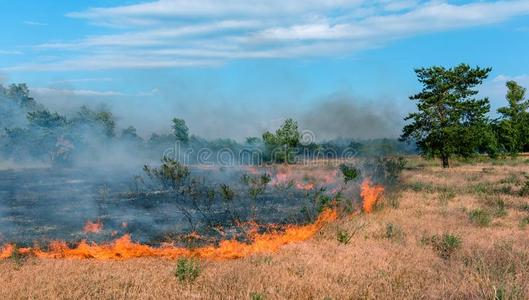fire: (48, 235, 280, 263), (284, 211, 339, 236), (359, 175, 383, 215)
smoke: (3, 103, 271, 219), (308, 92, 407, 166)
